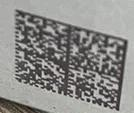datamatrix: (16, 11, 129, 112)
